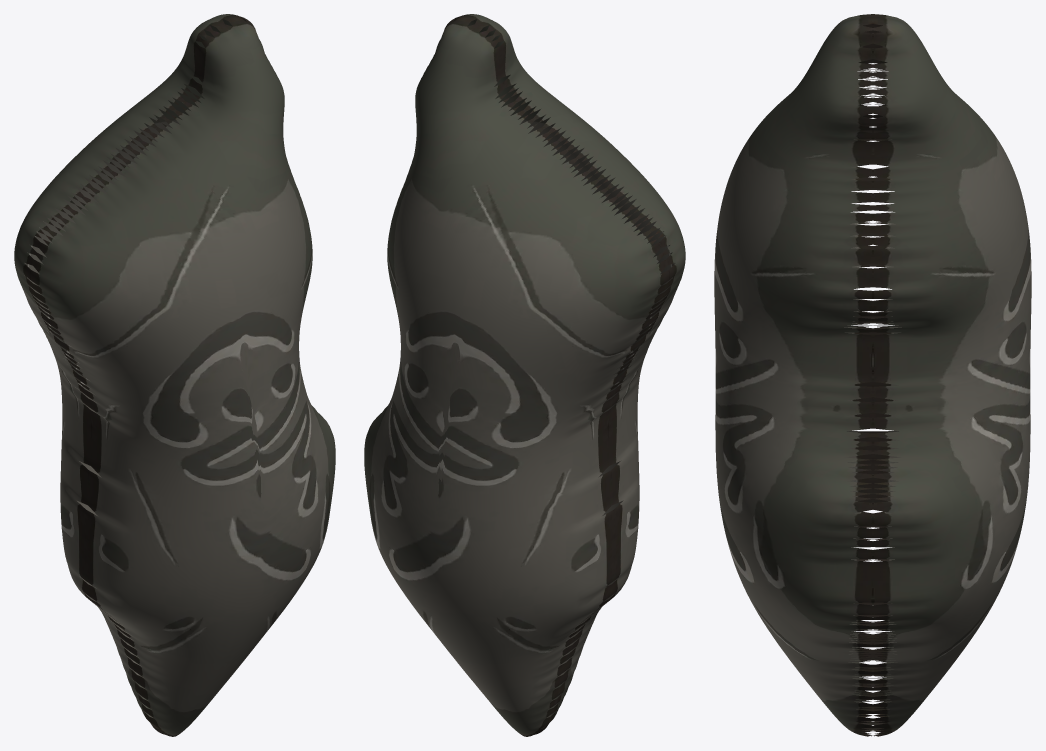
The model's file is slate_tablet.glb.
3 renders of one model, left to right at view 1: azimuth 30°, elevation 25°; view 2: azimuth 150°, elevation 25°; view 3: azimuth 270°, elevation 25°, orthographic. The views are drawn at different scales.
Parts seen in each view (by area): view 1: slate_tablet; view 2: slate_tablet; view 3: slate_tablet.
Boxes of the visible parts, x1=… form: slate_tablet: x1=14, y1=14, x2=335, y2=736; slate_tablet: x1=364, y1=14, x2=685, y2=736; slate_tablet: x1=714, y1=14, x2=1031, y2=736.
Size of the model in its own units: 0.9747 by 2.27 by 0.8662.
Materials: 1 (1 with a texture image).
